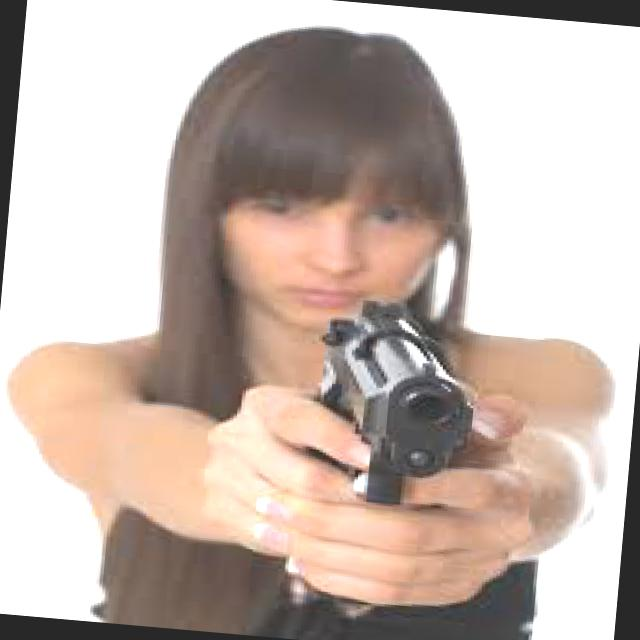handgun: (281, 288, 488, 627)
